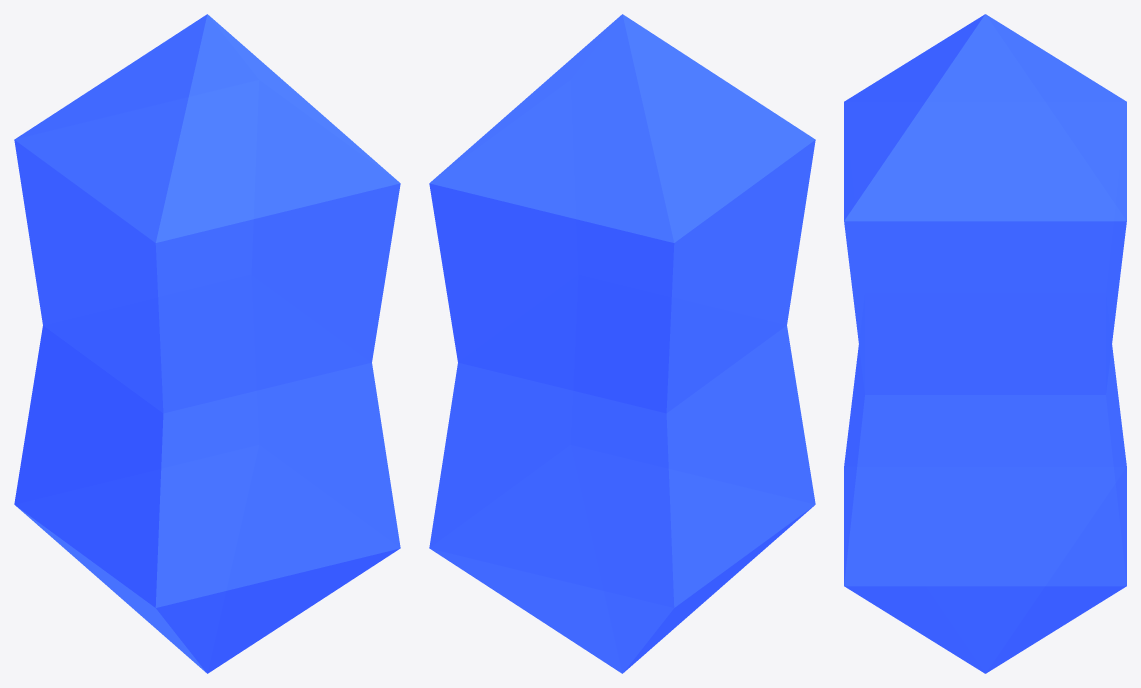
File: Schlüssel2.fbx
The picture shows the model from 3 angles, left to right: view 1: azimuth 30°, elevation 25°; view 2: azimuth 150°, elevation 25°; view 3: azimuth 270°, elevation 25°; orthographic projection.
Parts seen in each view (by area): view 1: Schlüssel3; view 2: Schlüssel3; view 3: Schlüssel3.
Part boxes in pixels (left/top/right/bottom): Schlüssel3: left=14, top=14, right=400, bottom=673; Schlüssel3: left=429, top=14, right=815, bottom=673; Schlüssel3: left=844, top=14, right=1126, bottom=673.
Size of the model in its own units: 50.97 by 131 by 50.97.
